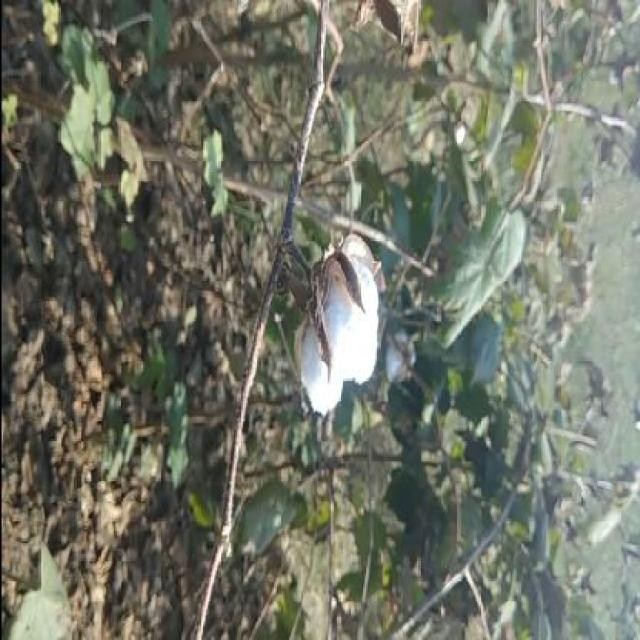cotton_ready: (256, 209, 396, 428)
